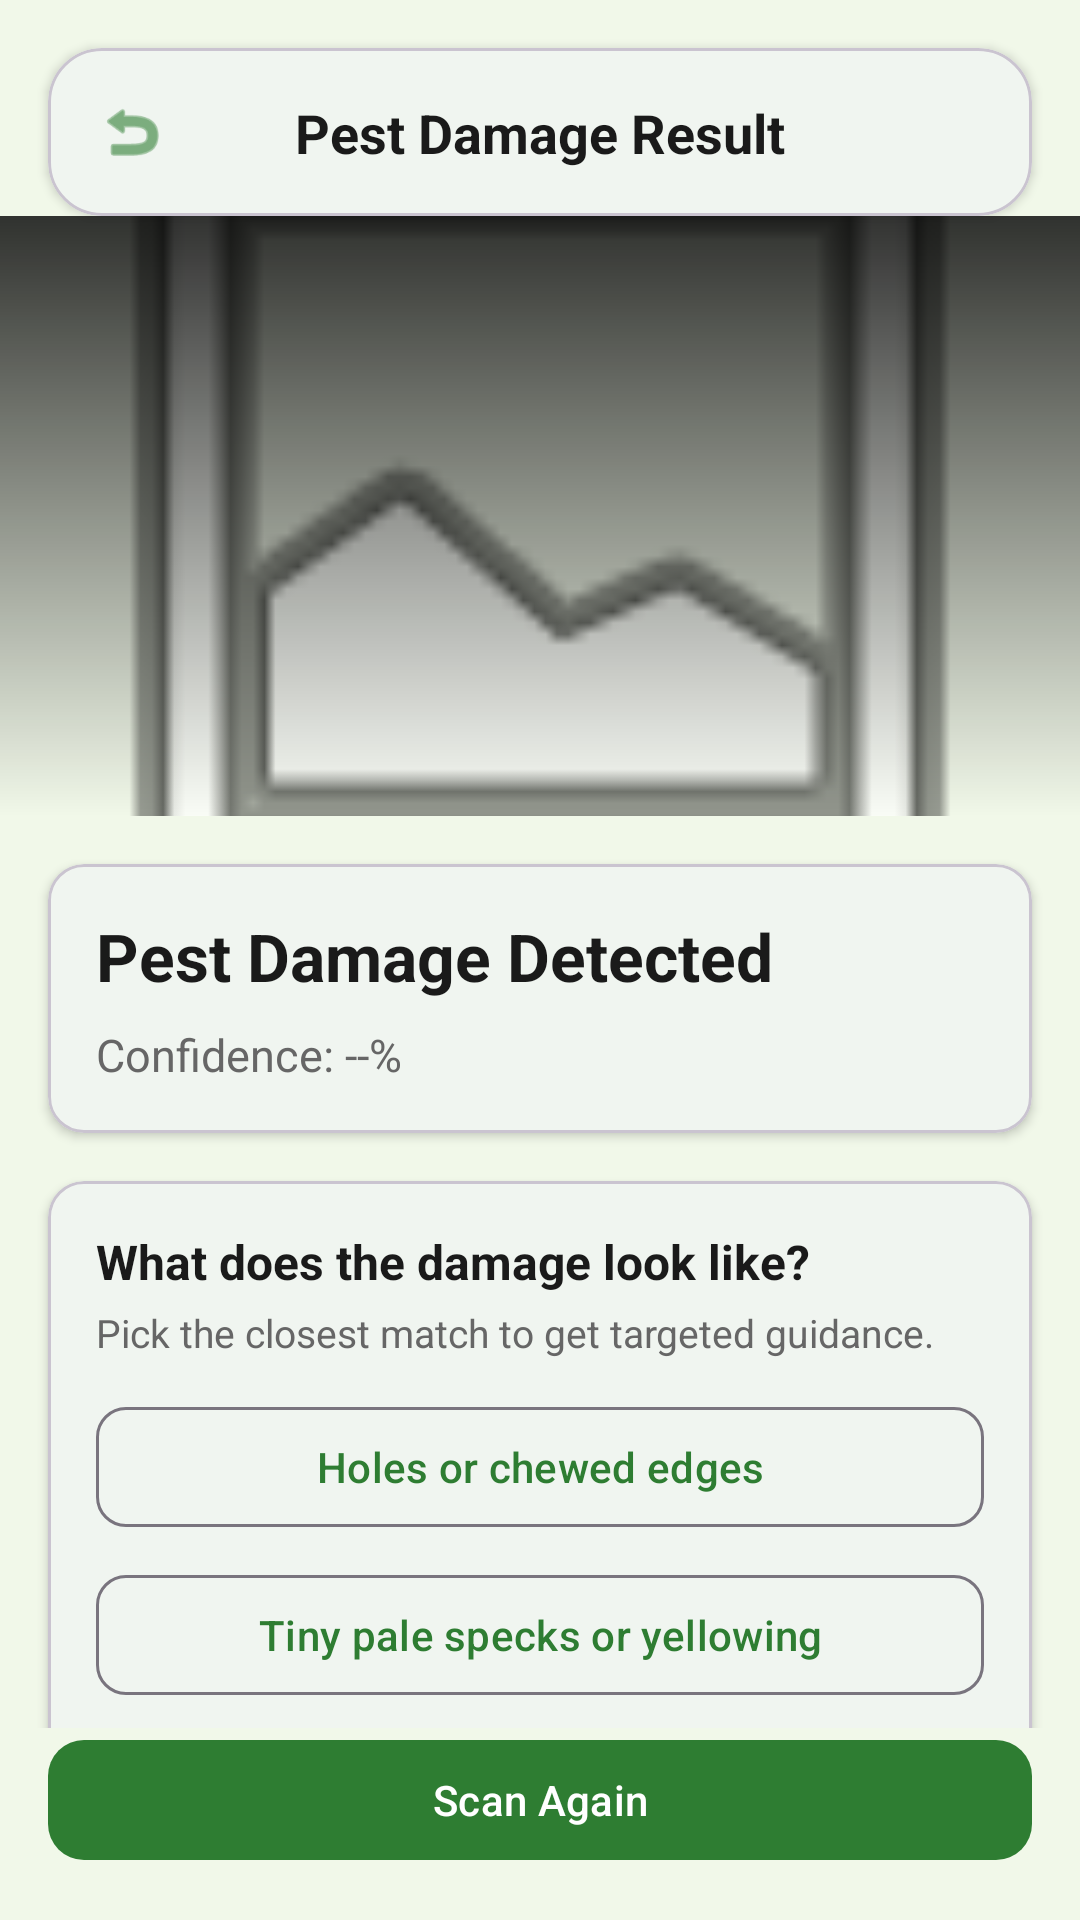

Where to tap for icons on this 1080 × 1920 app screen, as [x,y]:
Back arrow: [133,132]
